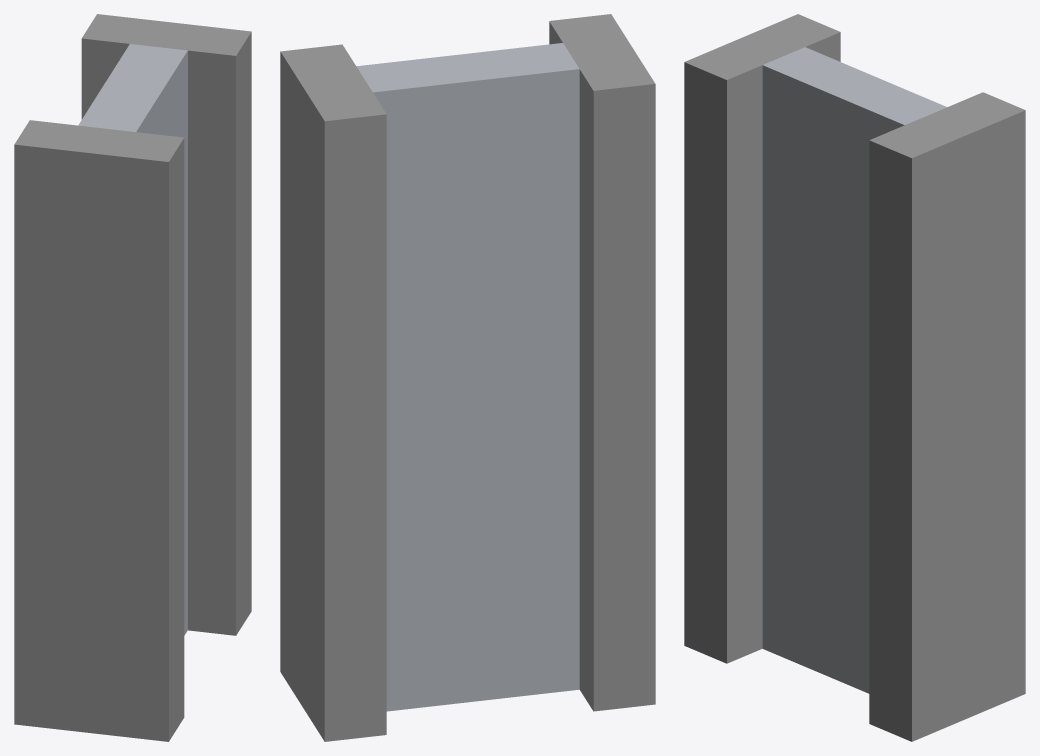
Rendered from steel_pole_45.obj.
The picture shows the model from 3 angles, left to right: view 1: azimuth 30°, elevation 25°; view 2: azimuth 150°, elevation 25°; view 3: azimuth 270°, elevation 25°; orthographic projection. The views are drawn at different scales.
Parts seen in each view (by area): view 1: pole; view 2: pole; view 3: pole.
Boxes of the visible parts, box(x1,y1,x2,y2) form: pole: box(14, 14, 251, 741); pole: box(280, 14, 655, 741); pole: box(684, 14, 1025, 741).
Size of the model in its own units: 0.5303 by 1 by 0.5303.
